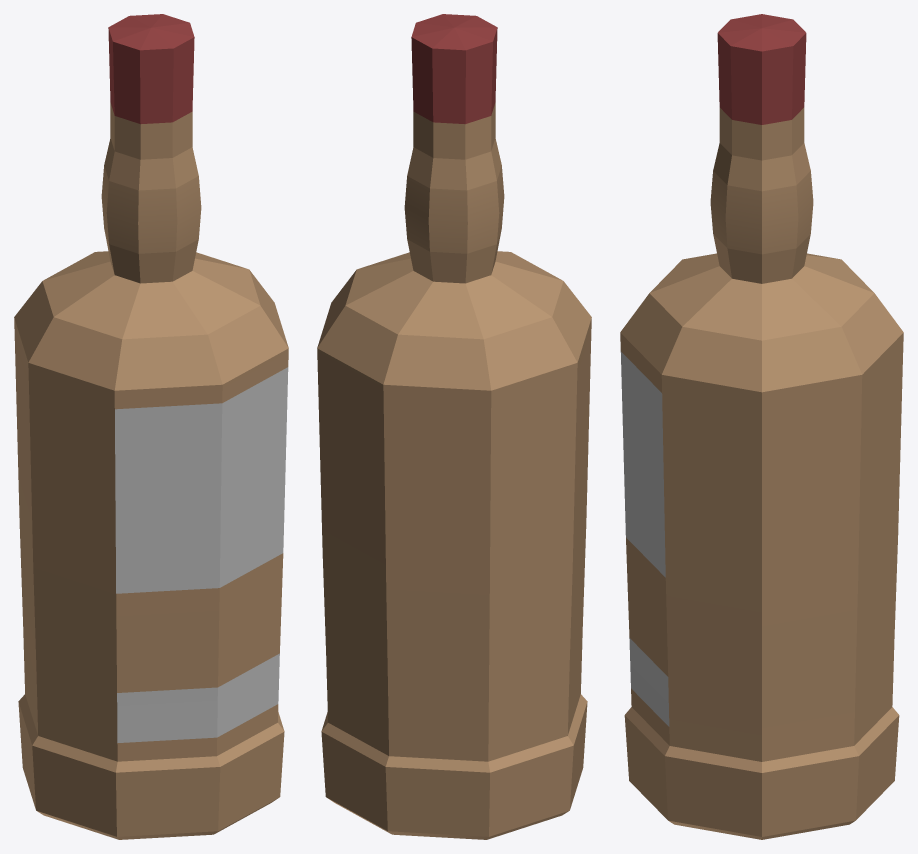
File: WhiskeyBottle_Mesh.fbx
3 renders of one model, left to right at view 1: azimuth 30°, elevation 25°; view 2: azimuth 150°, elevation 25°; view 3: azimuth 270°, elevation 25°, orthographic.
Visible parts, largest first — view 1: WhiskeyBottle; view 2: WhiskeyBottle; view 3: WhiskeyBottle.
Part boxes in pixels (x1,y1,x2,y2): WhiskeyBottle: (14,14,288,839); WhiskeyBottle: (317,14,591,839); WhiskeyBottle: (620,14,903,839).
Size of the model in its own units: 10.93 by 32.3 by 10.93.
